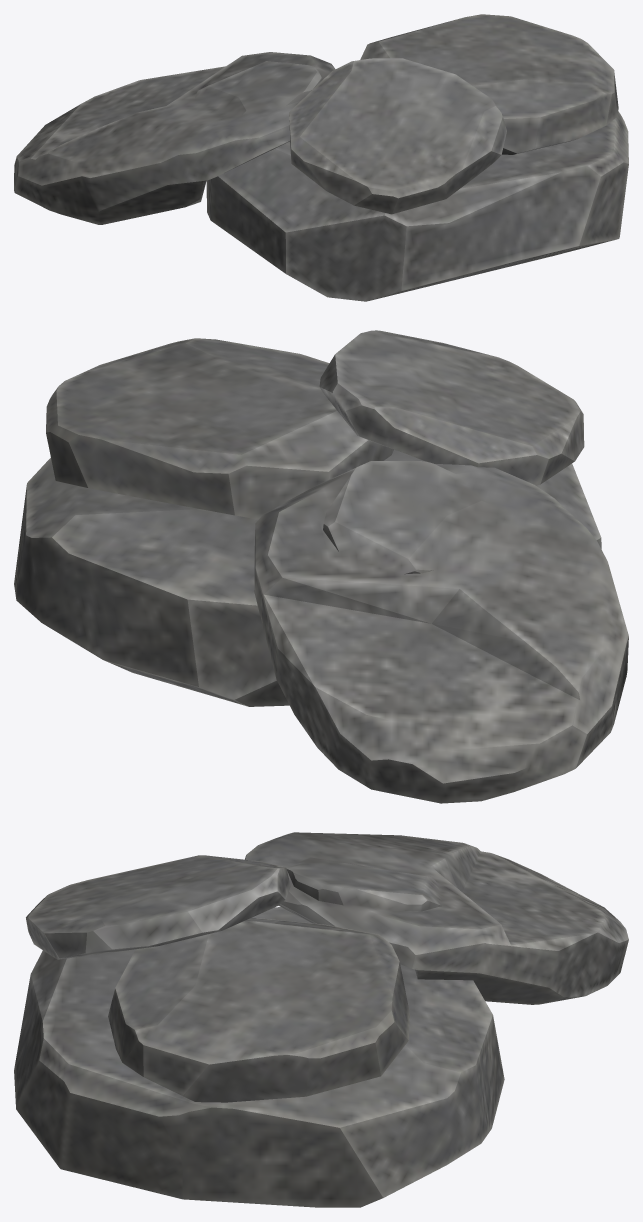
The model's file is RockGroup01_Dream.glb.
The picture shows the model from 3 angles, top to bottom: view 1: azimuth 30°, elevation 25°; view 2: azimuth 150°, elevation 25°; view 3: azimuth 270°, elevation 25°; orthographic projection. The views are drawn at different scales.
Visible parts, largest first — view 1: rockgroup01_dream; view 2: rockgroup01_dream; view 3: rockgroup01_dream.
Part boxes in pixels (x1,y1,x2,y2): rockgroup01_dream: (14, 14, 628, 301); rockgroup01_dream: (14, 330, 628, 803); rockgroup01_dream: (14, 832, 628, 1207).
Size of the model in its own units: 0.7681 by 0.2522 by 0.6869.
1 material, 1 textured.
